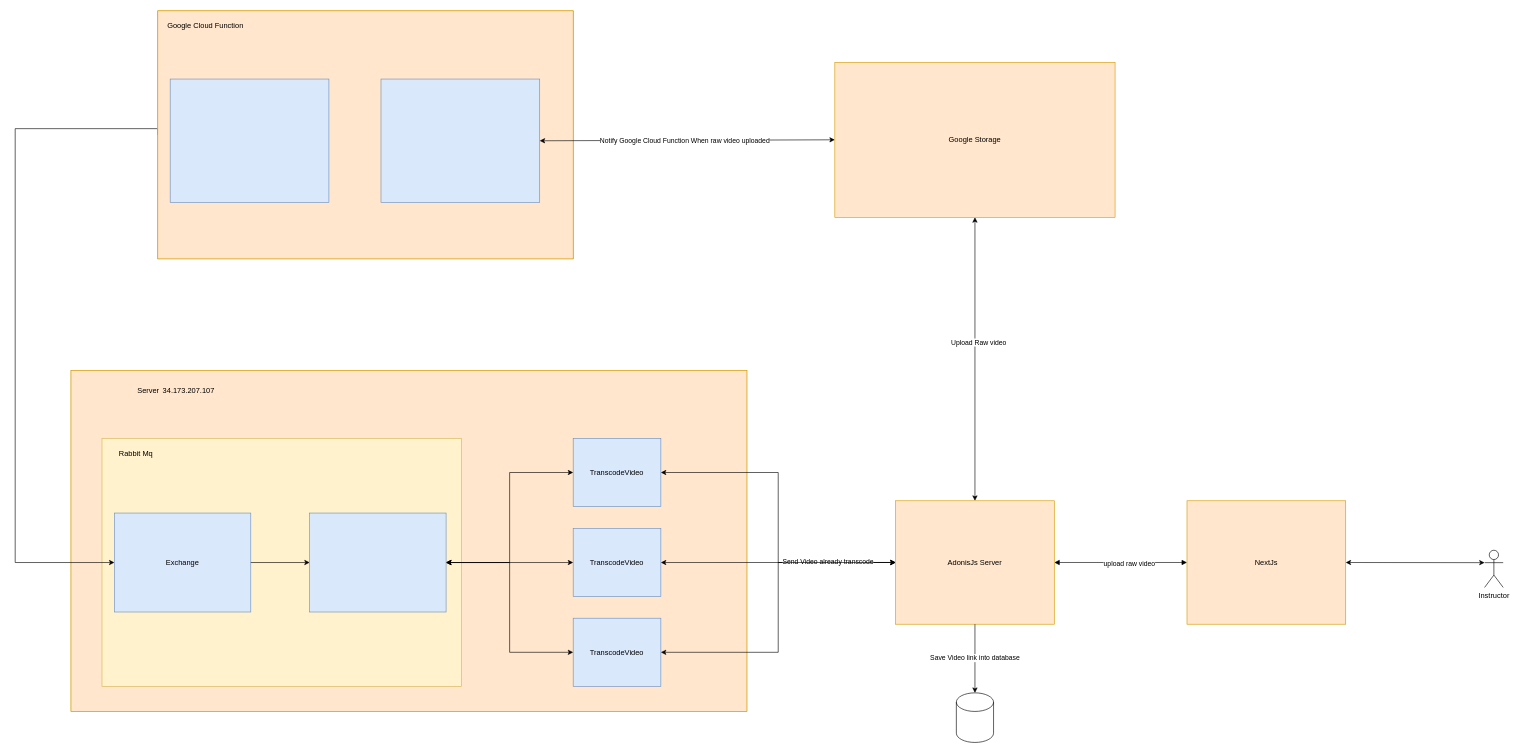
This 1520x753 diagram has some shape labels left out. The shapes that lost their labels are listed below. From the top down, each one's box as (x1, y1, x2, y2) in pixels, then its label:
(170, 78, 329, 202): Rabbit Mq (Sender)
(380, 78, 540, 202): Successful upload Trigger
(309, 512, 446, 612): Queue
(956, 692, 994, 742): Mysql
